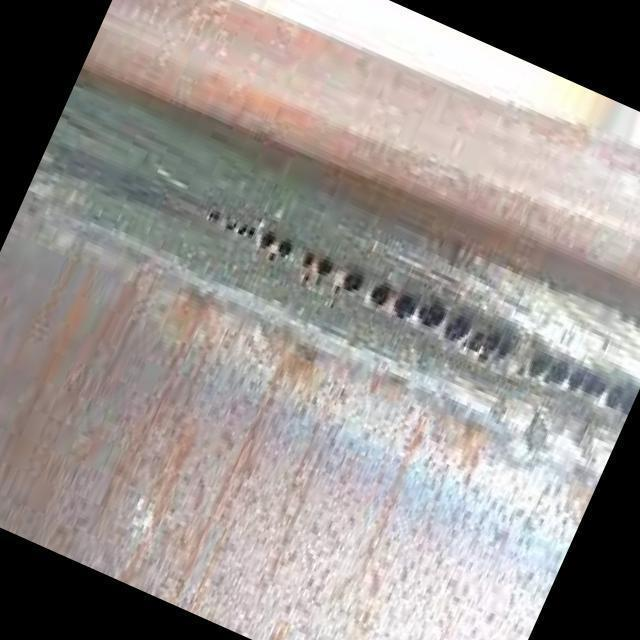defect: (298, 249, 639, 419), (199, 207, 299, 266)
